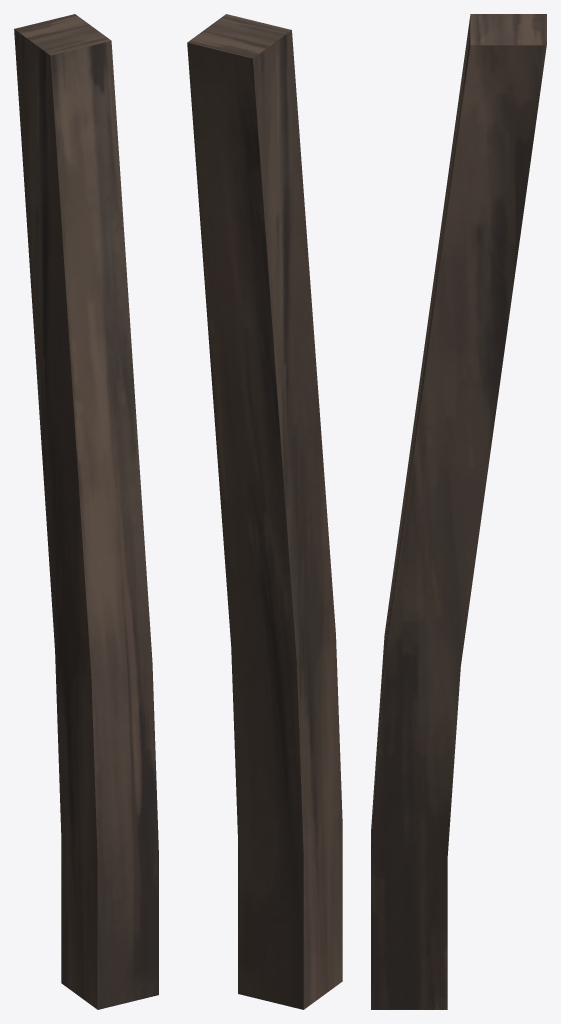
The model's file is SM_WoodenBeam_02.fbx.
3 views of the same model, side by side, from view 1: azimuth 30°, elevation 25°; view 2: azimuth 150°, elevation 25°; view 3: azimuth 270°, elevation 25° (orthographic). The views are drawn at different scales.
Visible parts, largest first — view 1: SM_WoodenBeam_02_LOD0; view 2: SM_WoodenBeam_02_LOD0; view 3: SM_WoodenBeam_02_LOD0.
Part boxes in pixels (<box>): SM_WoodenBeam_02_LOD0: <box>14,14,158,1009</box>; SM_WoodenBeam_02_LOD0: <box>187,14,342,1009</box>; SM_WoodenBeam_02_LOD0: <box>371,14,546,1009</box>.
Bounding box in the file's own units: 35.68 × 84.73 × 513.
Materials: 1 (1 with a texture image).
